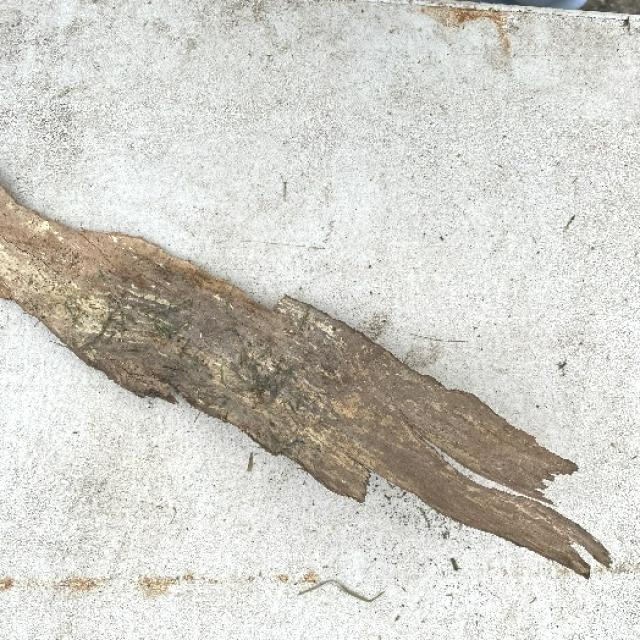organic: (7, 245, 343, 340)
